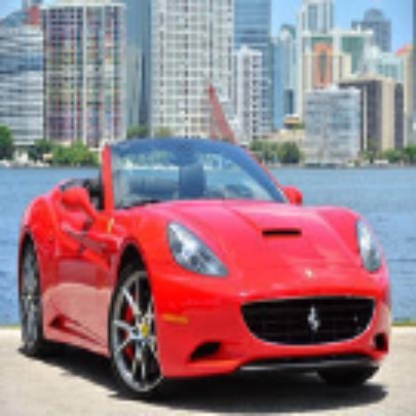Vehicle: (20, 140, 392, 404)
